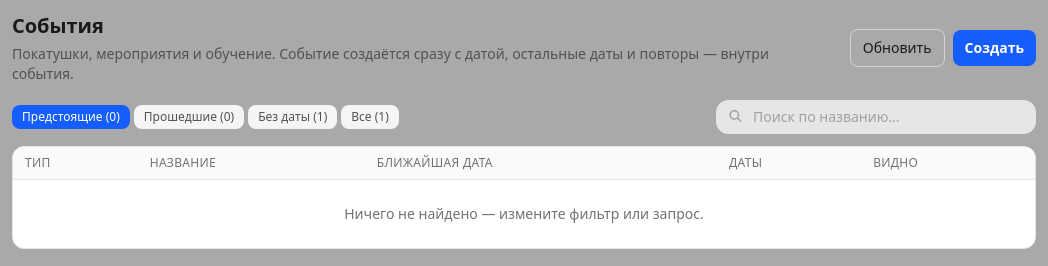
Test: EventsPage › событие без дат помечается «нет даты» и попадает в фильтр «Без даты»
Expected: the text "Черновик" is not shown
Step 1. Click the button "Без даты (1)" → (293, 117), box [248, 105, 337, 129]
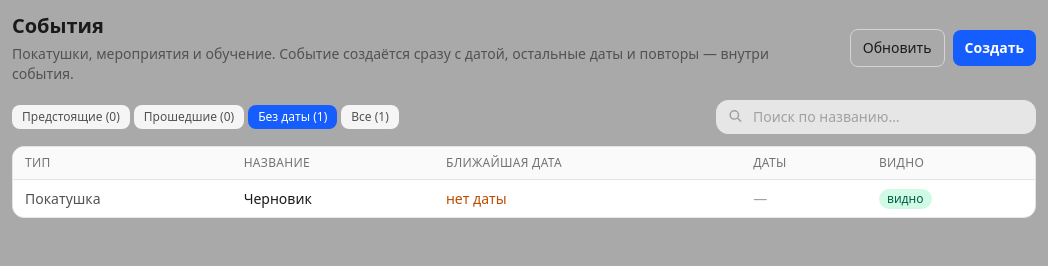
Expected: the text "Черновик" is shown, [232, 180, 434, 217]
Expected: the text "нет даты" is shown, [446, 188, 507, 208]
